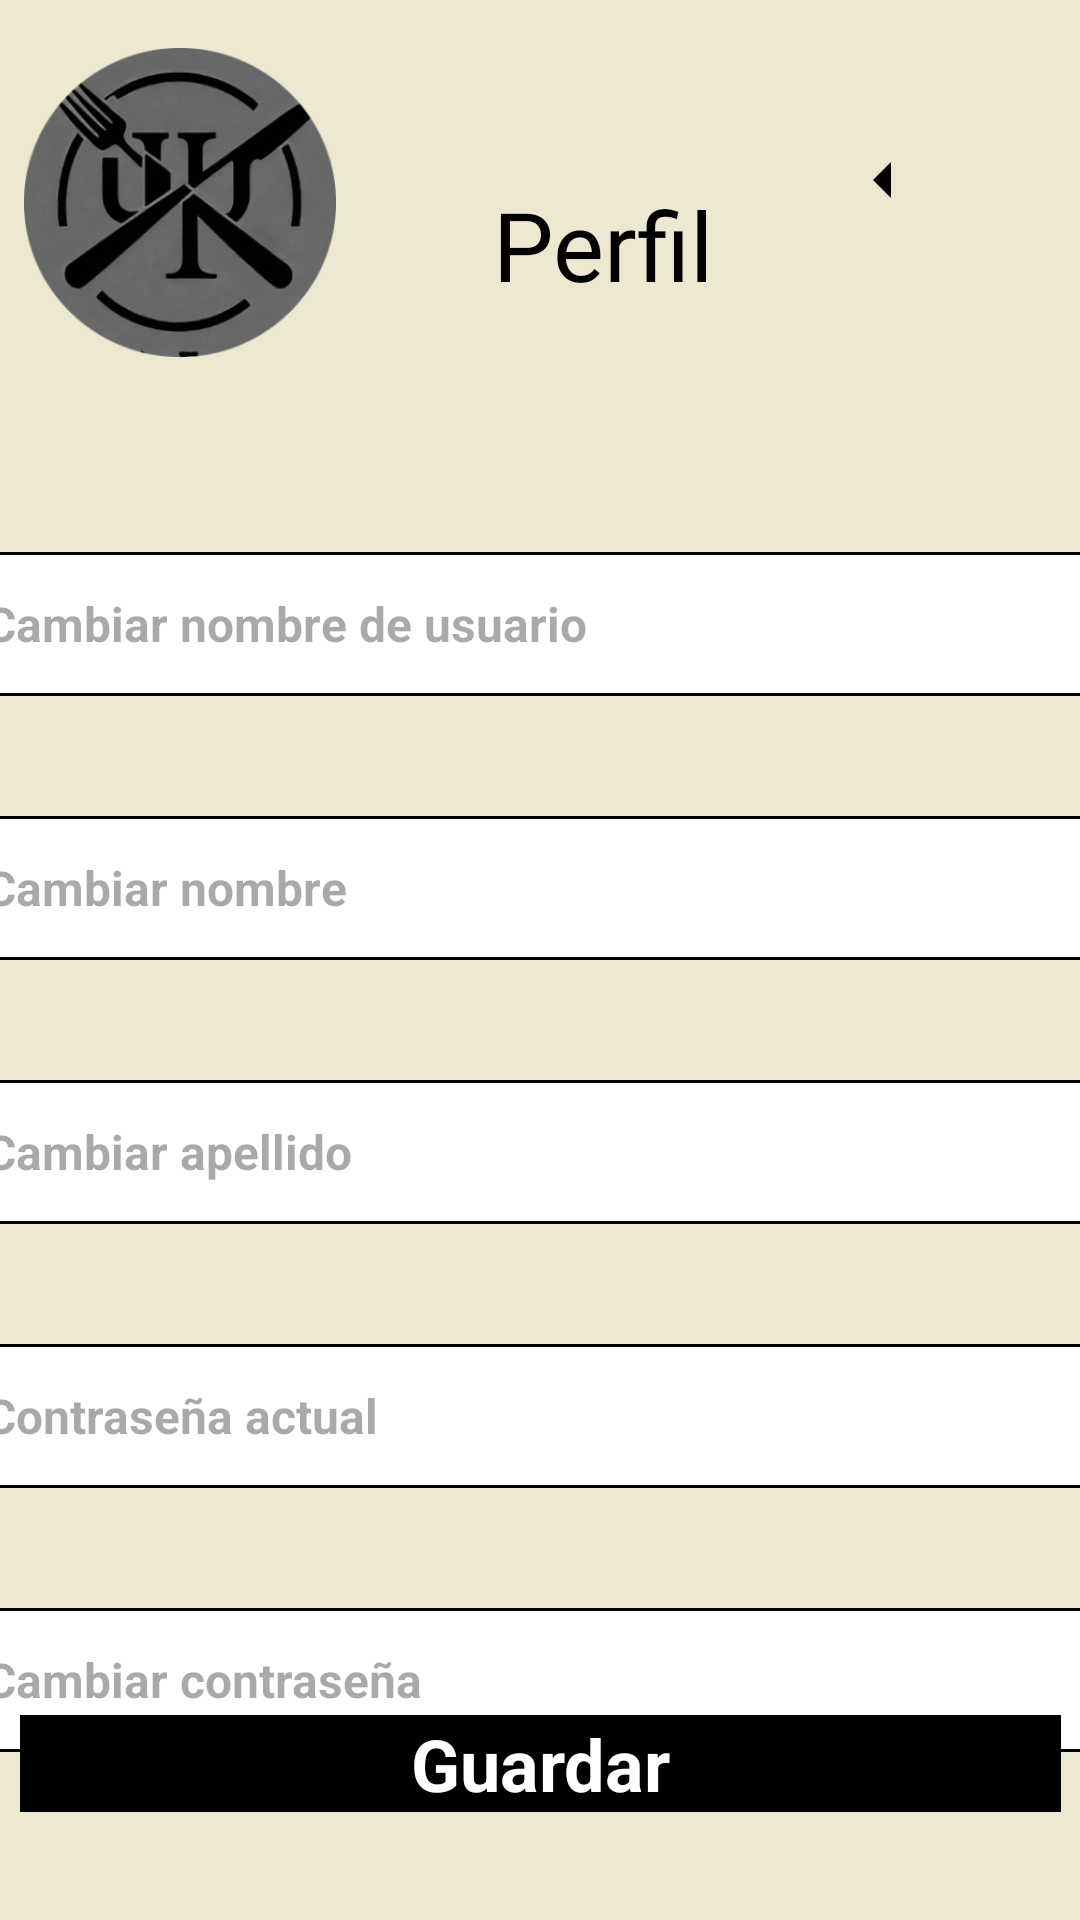

Screen size 1080w x 1920h. Icon name, then its center in pixels as (x,y):
Regresar: (882,180)
